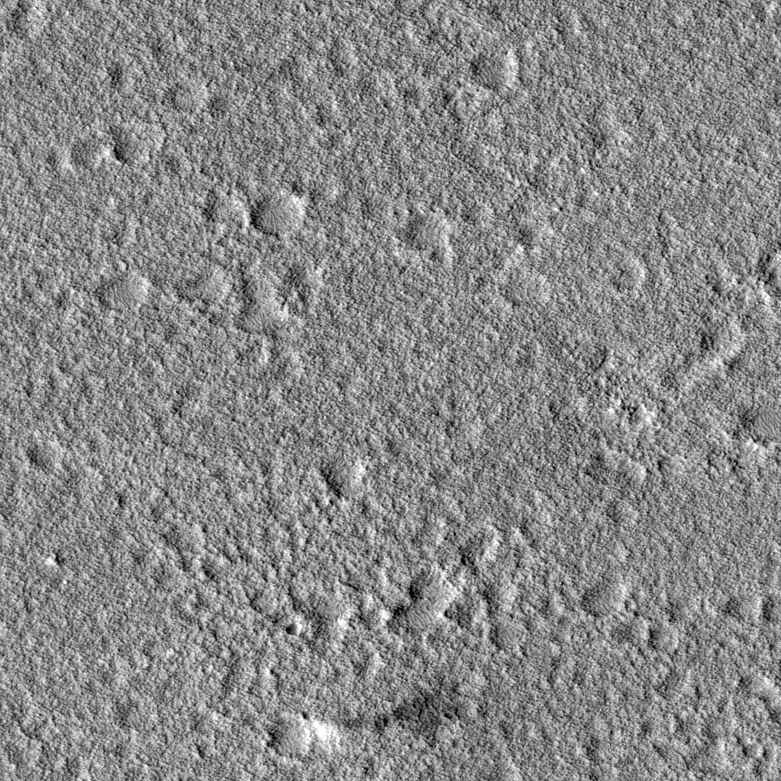dust_devil: (294, 679, 470, 758)
